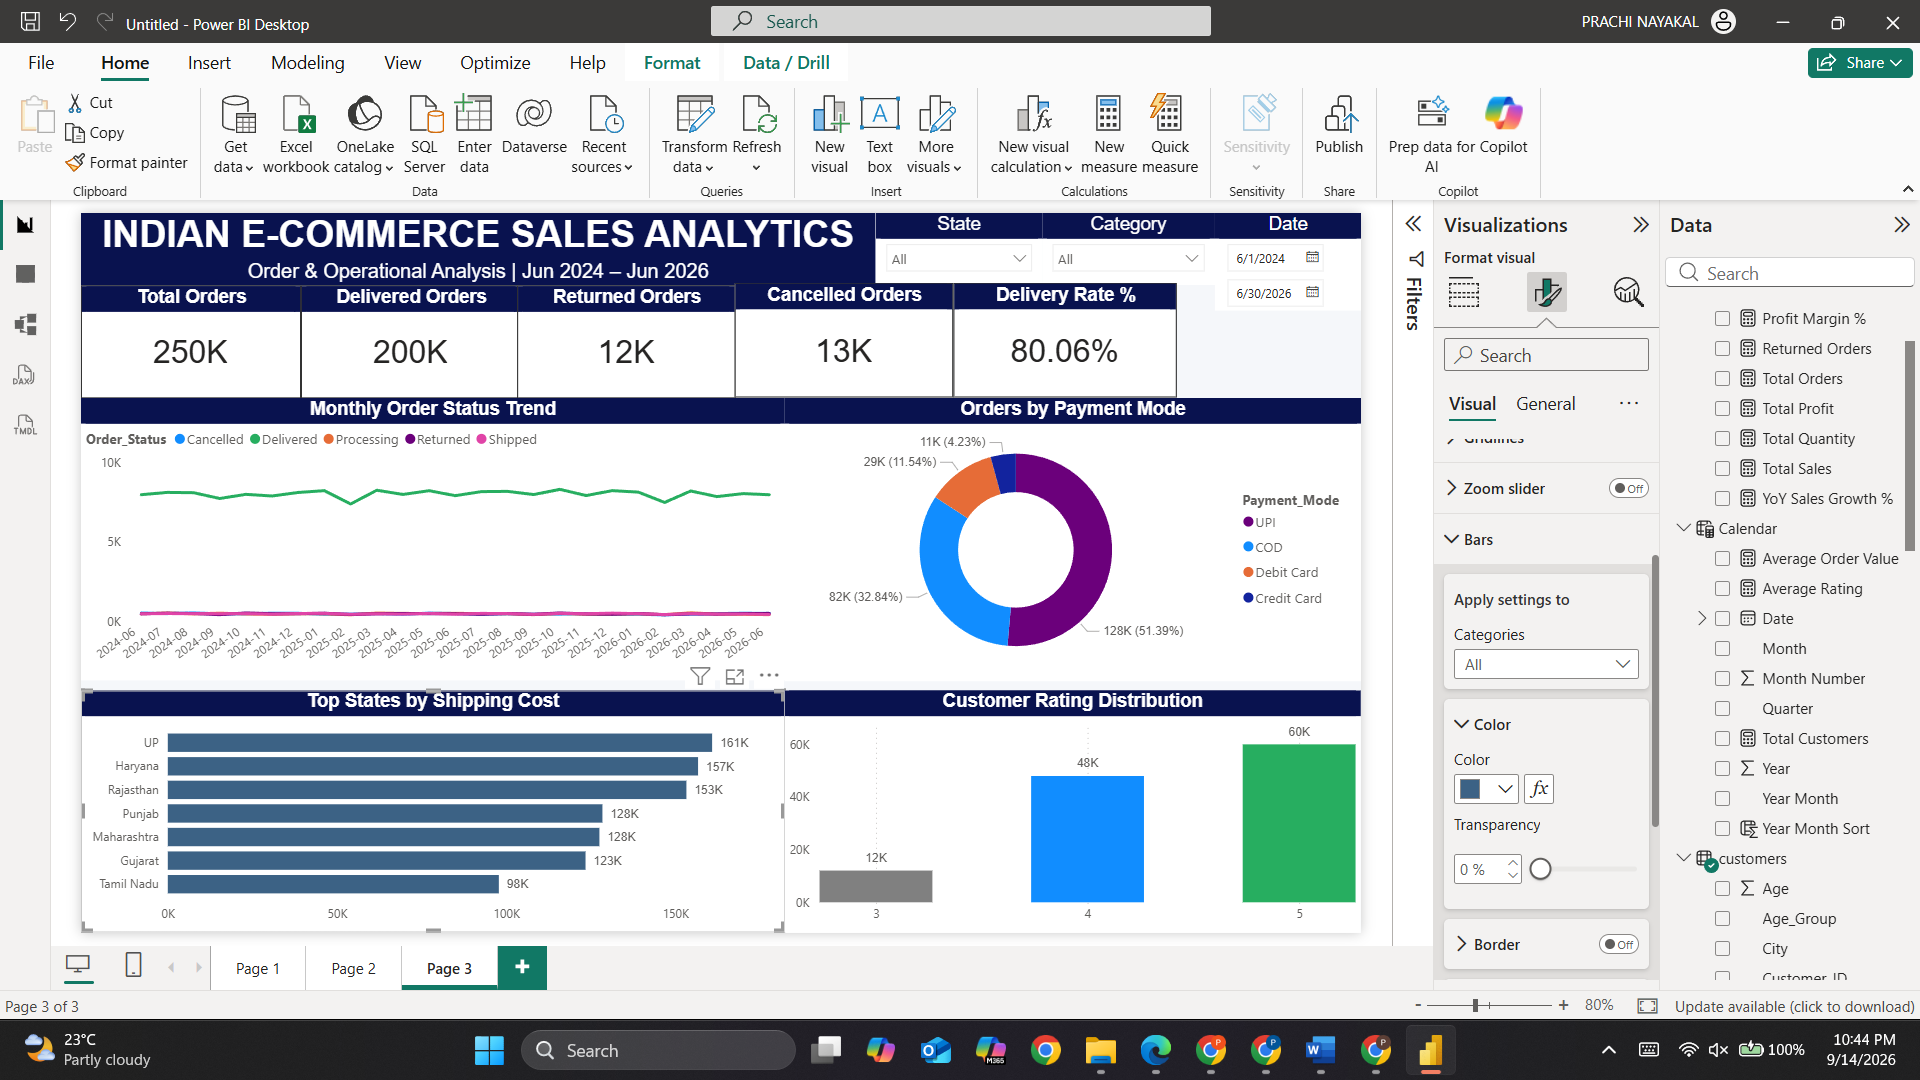

Layout of this report page (visuals, bound fields, positions):
{"tool":"powerbi","page":{"name":"Page 3","canvas":[1280,720],"ordinal":2},"visuals":[{"type":"textbox","title":"INDIAN E-COMMERCE SALES ANALYTICS ","box":[0,0,794.5,72.7],"z":0},{"type":"slicer","title":"State","fields":{"Values":["customers.State"]},"box":[794.8,0,166.3,72.1],"z":1000},{"type":"slicer","title":"Category","fields":{"Values":["products.Category"]},"box":[961.1,0,172.4,72.1],"z":2000},{"type":"slicer","title":"Date","fields":{"Values":["Calendar.Date"]},"box":[1133.3,0,146.7,97.8],"z":3000},{"type":"cardVisual","title":"Total Orders","fields":{"Data":["Measures (2).Total Orders"]},"box":[0,72.1,219.9,112.7],"z":4000},{"type":"cardVisual","title":"Delivered Orders","fields":{"Data":["Measures (2).Delivered Orders"]},"box":[219.9,72.1,219.9,112.7],"z":5000},{"type":"cardVisual","title":"Returned Orders","fields":{"Data":["Measures (2).Returned Orders"]},"box":[436,72.1,218,112.7],"z":6000},{"type":"cardVisual","title":"Cancelled Orders","fields":{"Data":["Measures (2).Cancelled Orders"]},"box":[654,70.2,218,114.6],"z":7000},{"type":"cardVisual","title":"Delivery Rate %","fields":{"Data":["Measures (2).Delivery Rate %"]},"box":[872.1,70.2,223.6,114.6],"z":8000},{"type":"lineChart","title":"Monthly Order Status Trend","fields":{"Category":["Calendar.Year Month"],"Y":["Measures (2).Total Orders"],"Series":["sales.Order_Status"]},"box":[0,184.8,703.9,282.7],"z":9000},{"type":"barChart","title":"Top States by Shipping Cost","fields":{"Category":["customers.State"],"Y":["Sum(sales.Shipping_Cost)"]},"box":[0,478,704,242],"z":10000},{"type":"donutChart","title":"Orders by Payment Mode","fields":{"Category":["sales.Payment_Mode"],"Y":["Measures (2).Total Orders"]},"box":[703.3,185,576.7,283.3],"z":11000},{"type":"clusteredColumnChart","title":"Customer Rating Distribution","fields":{"Category":["sales.Rating"],"Y":["Measures (2).Total Orders"]},"box":[704,478,576,242],"z":12000}]}

Visuals, with their boxes on the page's 1280x720 design canvas (x1, y1, x2, y2). These are canvas units, not pixel positions in the 1920x1080 screenshot, which may show the page scaled, cropped or inside an application window:
"INDIAN E-COMMERCE SALES ANALYTICS " textbox: x1=0, y1=0, x2=794, y2=73
"State" slicer: x1=795, y1=0, x2=961, y2=72
"Category" slicer: x1=961, y1=0, x2=1134, y2=72
"Date" slicer: x1=1133, y1=0, x2=1280, y2=98
"Total Orders" cardVisual: x1=0, y1=72, x2=220, y2=185
"Delivered Orders" cardVisual: x1=220, y1=72, x2=440, y2=185
"Returned Orders" cardVisual: x1=436, y1=72, x2=654, y2=185
"Cancelled Orders" cardVisual: x1=654, y1=70, x2=872, y2=185
"Delivery Rate %" cardVisual: x1=872, y1=70, x2=1096, y2=185
"Monthly Order Status Trend" lineChart: x1=0, y1=185, x2=704, y2=468
"Top States by Shipping Cost" barChart: x1=0, y1=478, x2=704, y2=720
"Orders by Payment Mode" donutChart: x1=703, y1=185, x2=1280, y2=468
"Customer Rating Distribution" clusteredColumnChart: x1=704, y1=478, x2=1280, y2=720
